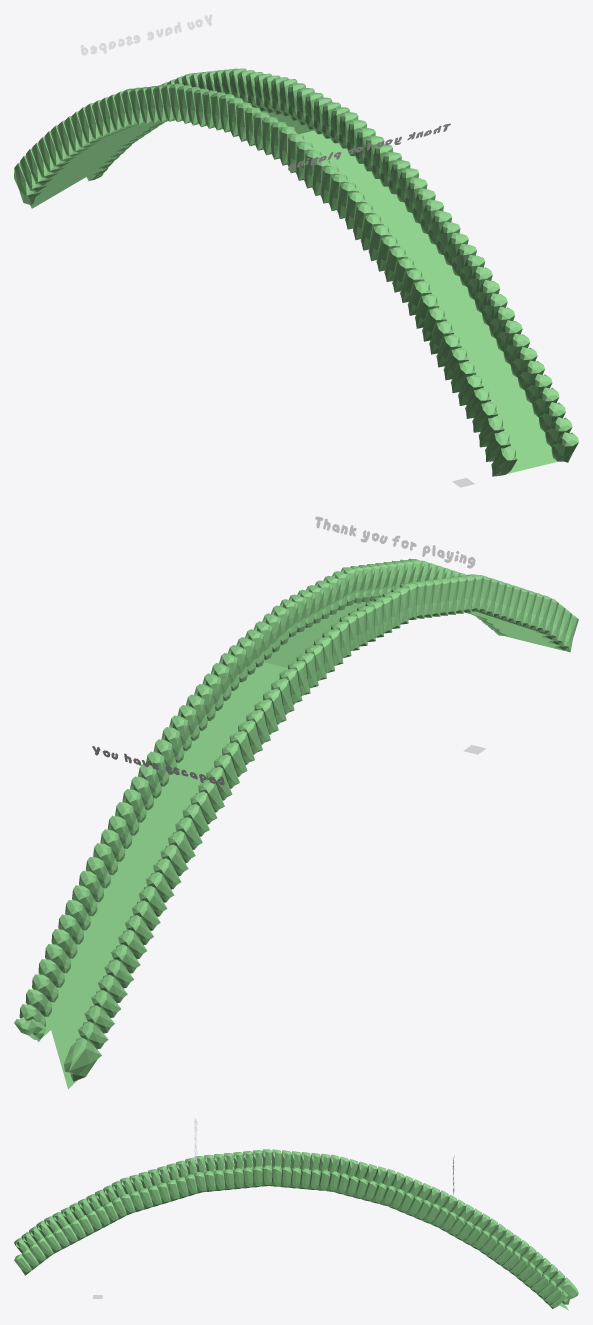
The model's file is end_screen.glb.
The picture shows the model from 3 angles, top to bottom: view 1: azimuth 30°, elevation 25°; view 2: azimuth 150°, elevation 25°; view 3: azimuth 270°, elevation 25°; orthographic projection. The views are drawn at different scales.
Parts seen in each view (by area): view 1: bush_plane, Text, Text.001; view 2: bush_plane, Text.001; view 3: bush_plane.
Part boxes in pixels (box(x1,y1,x2,y2)): bush_plane: box(14, 68, 578, 476); Text: box(80, 14, 212, 55); Text.001: box(288, 123, 450, 171); bush_plane: box(14, 558, 578, 1089); Text.001: box(315, 516, 475, 568); bush_plane: box(14, 1149, 578, 1310).
Size of the model in its own units: 21.72 by 39.78 by 117.
